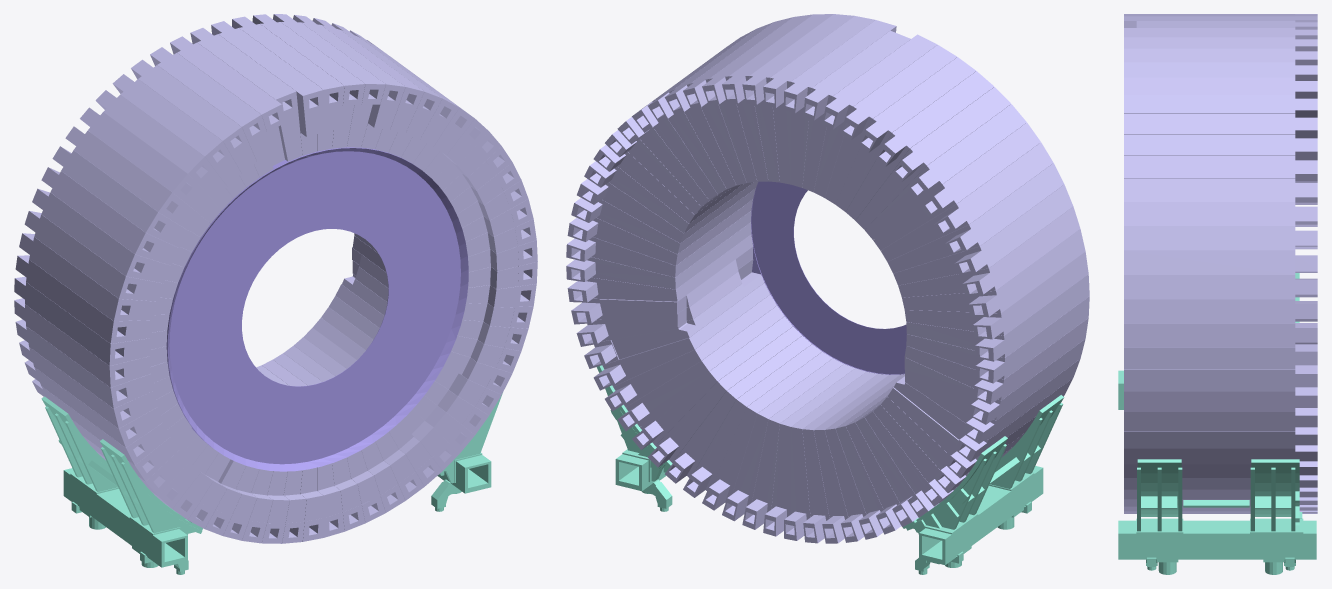
File: Tile-End-Cap-SideC-cut1.glb
3 views of the same model, side by side, from view 1: azimuth 30°, elevation 25°; view 2: azimuth 150°, elevation 25°; view 3: azimuth 270°, elevation 25° (orthographic).
Visible parts, largest first — view 1: null; view 2: null; view 3: null.
Boxes of the visible parts, x1=… form: null: x1=14, y1=14, x2=537, y2=574; null: x1=566, y1=14, x2=1089, y2=574; null: x1=1118, y1=14, x2=1317, y2=574.
Size of the model in its own units: 8.47 by 8.73 by 3.37.
